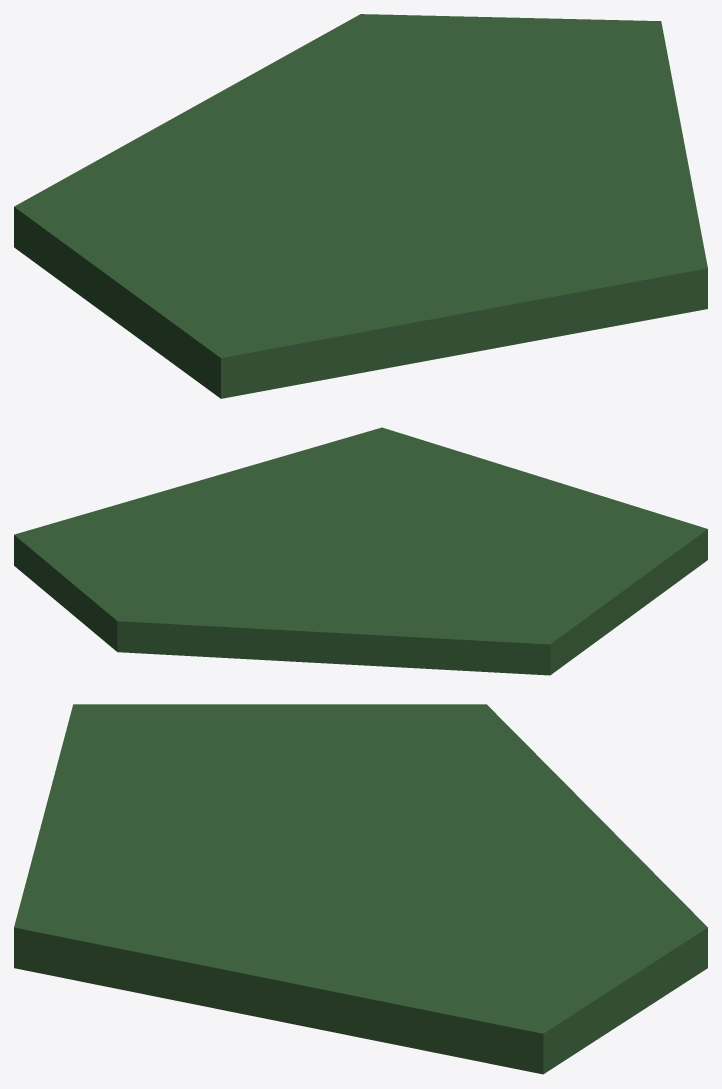
The model's file is x_proval_00_216_1_rmstrd.fbx.
3 views of the same model, one above another, from view 1: azimuth 30°, elevation 25°; view 2: azimuth 150°, elevation 25°; view 3: azimuth 270°, elevation 25° (orthographic). The views are drawn at different scales.
Visible parts, largest first — view 1: x_proval_00_216_1_rmstrd1; view 2: x_proval_00_216_1_rmstrd1; view 3: x_proval_00_216_1_rmstrd1.
Boxes of the visible parts, x1=… form: x_proval_00_216_1_rmstrd1: x1=14, y1=14, x2=707, y2=398; x_proval_00_216_1_rmstrd1: x1=14, y1=427, x2=707, y2=675; x_proval_00_216_1_rmstrd1: x1=14, y1=704, x2=707, y2=1074.
Size of the model in its own units: 3.47 by 0.2 by 3.09.
